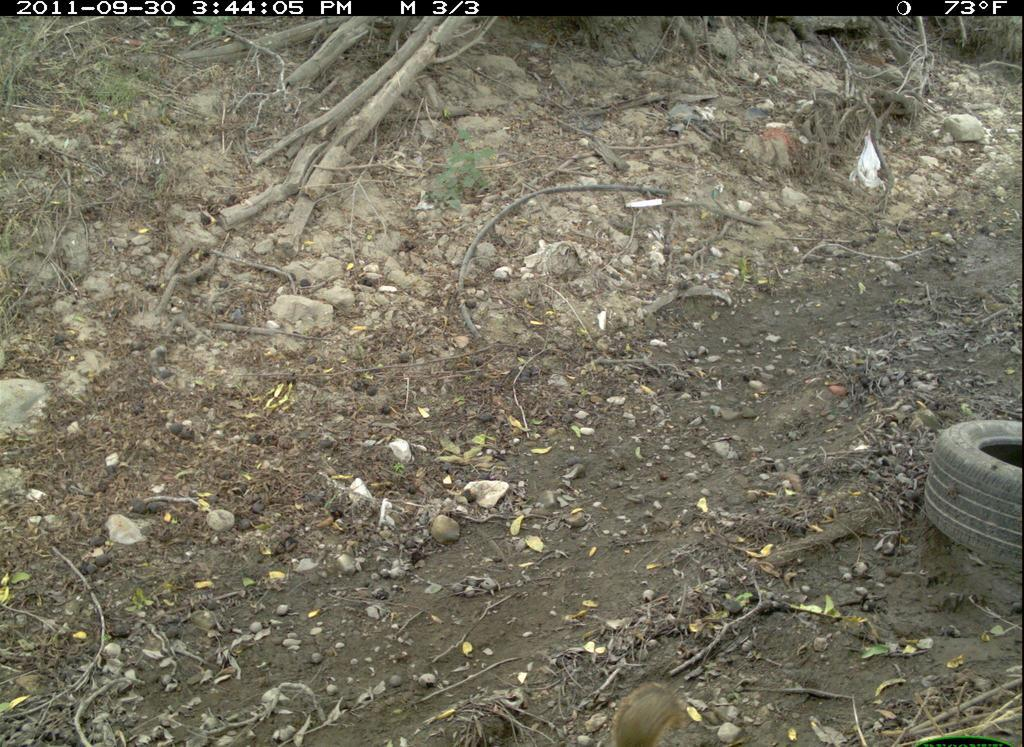squirrel: (598, 675, 692, 745)
